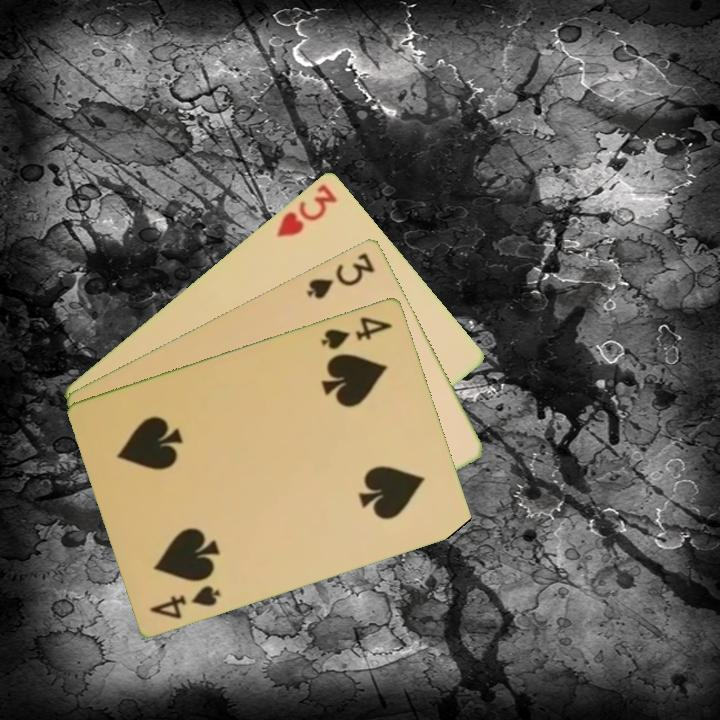3h: (272, 179, 341, 240)
3s: (303, 248, 378, 302)
4s: (317, 312, 395, 352), (147, 581, 224, 621)
